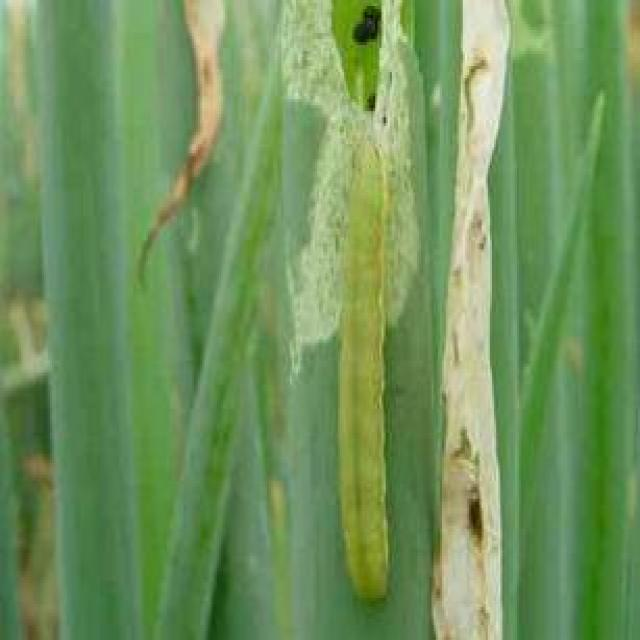BeetArmyWorm-Larva-: (304, 123, 422, 618)
